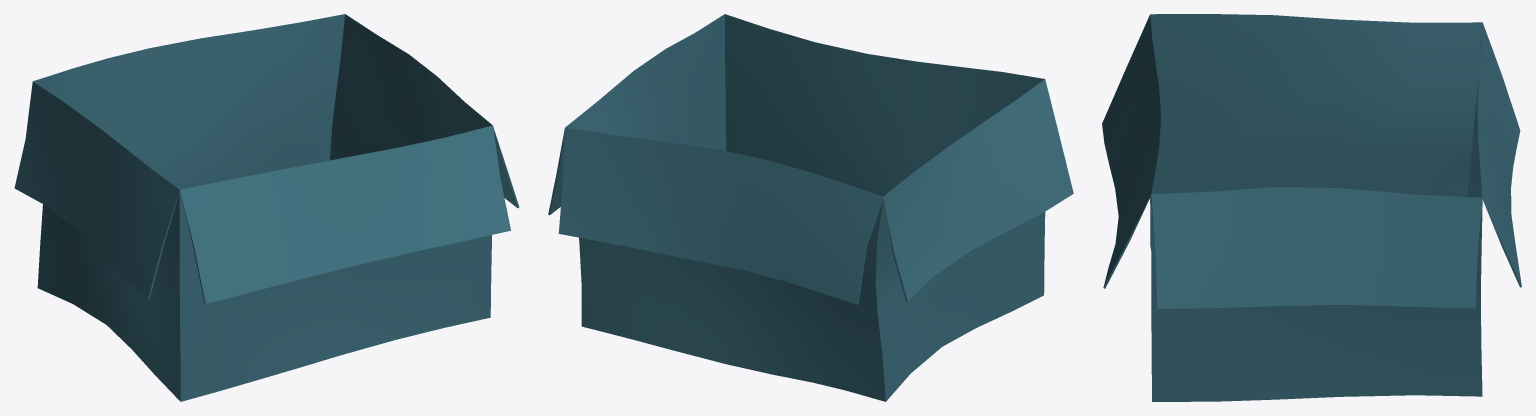
Rendered from SM_SmallTrashkit_Box_002.fbx.
3 views of the same model, side by side, from view 1: azimuth 30°, elevation 25°; view 2: azimuth 150°, elevation 25°; view 3: azimuth 270°, elevation 25° (orthographic). The views are drawn at different scales.
Parts seen in each view (by area): view 1: SM_SmallTrashkit_Box_002; view 2: SM_SmallTrashkit_Box_002; view 3: SM_SmallTrashkit_Box_002.
Part boxes in pixels (<box>): SM_SmallTrashkit_Box_002: <box>14,14,519,401</box>; SM_SmallTrashkit_Box_002: <box>548,14,1073,401</box>; SM_SmallTrashkit_Box_002: <box>1102,14,1521,401</box>.
Bounding box in the file's own units: 77.58 × 42.73 × 69.52.
